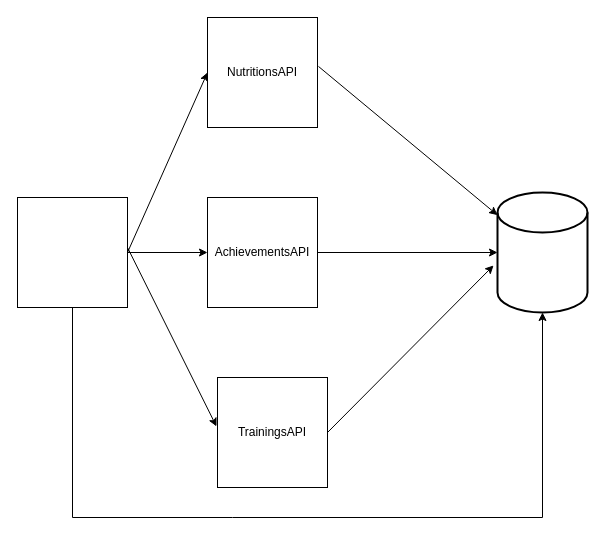
Some shapes in this 606 by 543 pixel diagram are drawn without their labels. The centre of each missing label's shape, as x and y in pixels:
"DB" belongs at point (542, 252).
"UsersAPI" belongs at point (72, 252).
